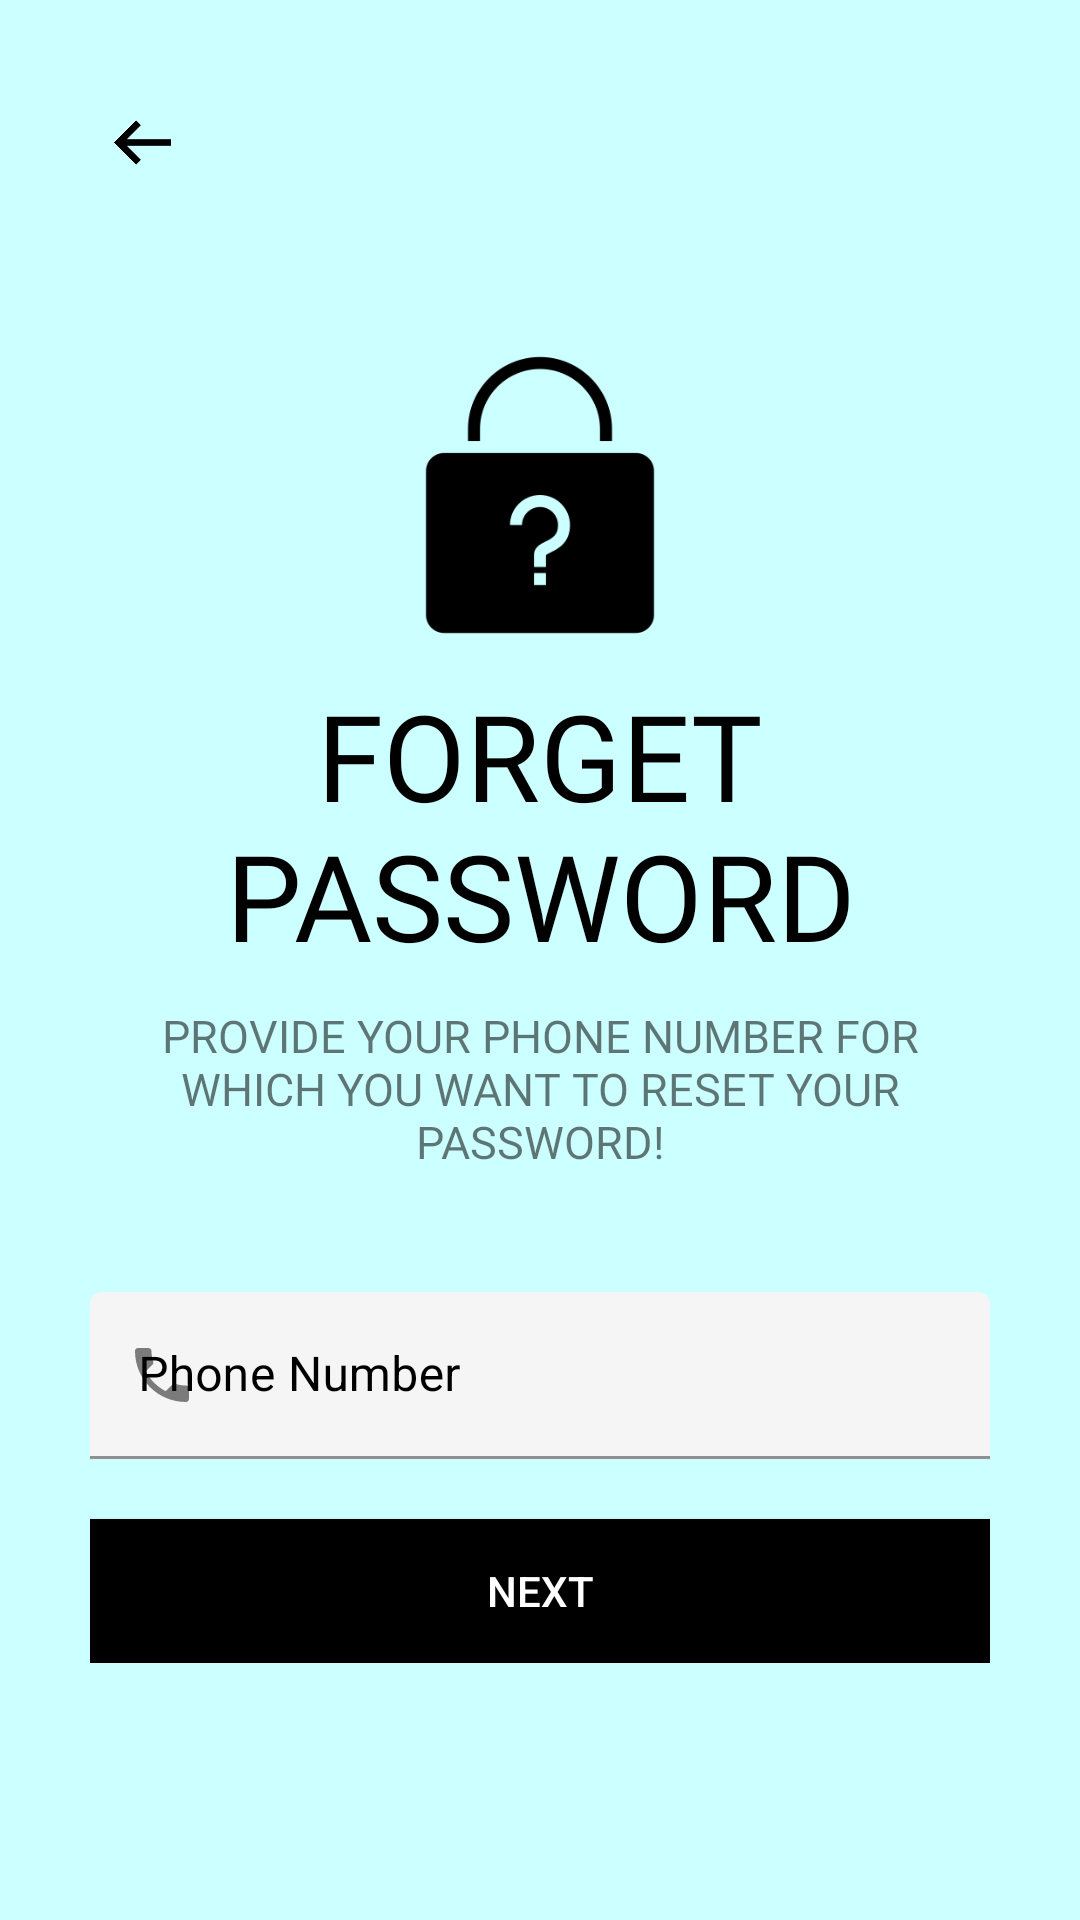

Screen size 1080x1920. Icon name, then its box in pixels as [left=x1, top=y1, right=x2, bottom=y2]:
left: [left=114, top=120, right=171, bottom=165]
